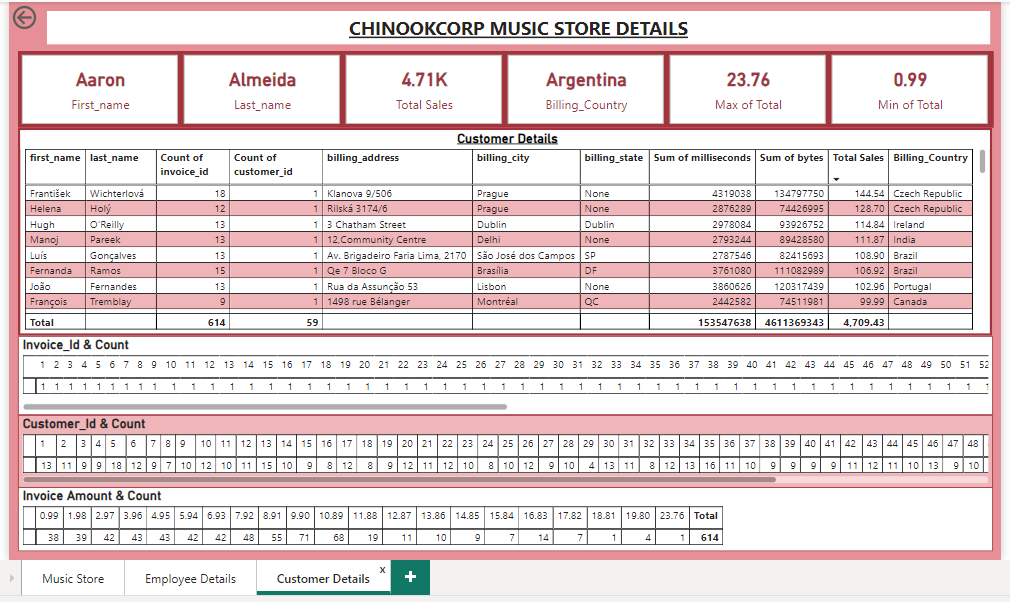

Layout of this report page (visuals, bound fields, positions):
{"tool":"powerbi","page":{"name":"Customer Details","canvas":[1280,720],"ordinal":2},"visuals":[{"type":"tableEx","title":"Customer Details","fields":{"Values":["Merge customers to playlist,album,artist,media_type,genre.first_name","Merge customers to playlist,album,artist,media_type,genre.last_name","Merge customers to playlist,album,artist,media_type,genre.invoice_id","Merge customers to playlist,album,artist,media_type,genre.customer_id","Merge customers to playlist,album,artist,media_type,genre.billing_address","Merge customers to playlist,album,artist,media_type,genre.billing_city","Merge customers to playlist,album,artist,media_type,genre.billing_state","Merge customers to playlist,album,artist,media_type,genre.milliseconds","Merge customers to playlist,album,artist,media_type,genre.bytes","Merge customers to playlist,album,artist,media_type,genre.total","Merge customers to playlist,album,artist,media_type,genre.billing_country"]},"box":[11.3,163,1257.2,267.9],"z":0},{"type":"actionButton","box":[0,0,100,40],"z":1000},{"type":"cardVisual","fields":{"Data":["Merge customers to playlist,album,artist,media_type,genre.first_name","Merge customers to playlist,album,artist,media_type,genre.last_name","Merge customers to playlist,album,artist,media_type,genre.total","Merge customers to playlist,album,artist,media_type,genre.billing_country","Merge customers to playlist,album,artist,media_type,genre.total","Merge customers to playlist,album,artist,media_type,genre.total"]},"box":[11.3,63.8,1258.6,99.2],"z":2000},{"type":"textbox","box":[49.5,11,1216.7,42.7],"z":3000},{"type":"pivotTable","title":"Invoice Amount & Count","fields":{"Columns":["Merge customers to playlist,album,artist,media_type,genre.total"],"Values":["Merge customers to playlist,album,artist,media_type,genre.total"]},"box":[11,626.2,1258,82.6],"z":4000},{"type":"pivotTable","title":"Invoice_Id & Count","fields":{"Values":["Merge customers to playlist,album,artist,media_type,genre.invoice_id"],"Columns":["Merge customers to playlist,album,artist,media_type,genre.invoice_id"]},"box":[11,430.8,1258,101.8],"z":5000},{"type":"pivotTable","title":"Customer_Id & Count","fields":{"Columns":["Merge customers to playlist,album,artist,media_type,genre.customer_id"],"Values":["Merge customers to playlist,album,artist,media_type,genre.customer_id"]},"box":[11,532.6,1258,93.6],"z":6000}]}

Visuals, with their boxes on the page's 1280x720 design canvas (x1, y1, x2, y2). These are canvas units, not pixel positions in the 1010x602 screenshot, which may show the page scaled, cropped or inside an application window:
"Customer Details" tableEx: 11,163,1268,431
actionButton: 0,0,100,40
cardVisual - Merge customers to playlist,album,artist,media_type,genre.first_name x Merge customers to playlist,album,artist,media_type,genre.last_name: 11,64,1270,163
textbox: 50,11,1266,54
"Invoice Amount & Count" pivotTable: 11,626,1269,709
"Invoice_Id & Count" pivotTable: 11,431,1269,533
"Customer_Id & Count" pivotTable: 11,533,1269,626
